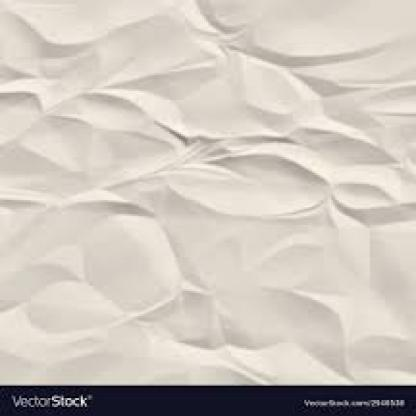paper: (0, 0, 414, 382)
